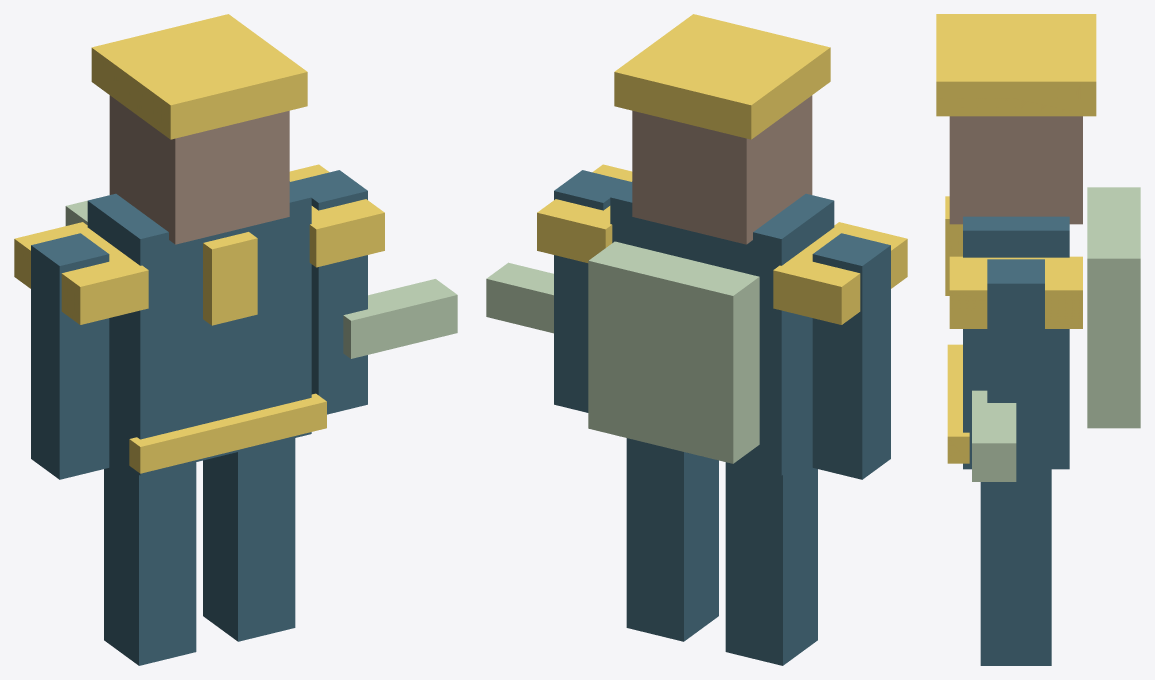
The model's file is 08_tamsin_ashvein_tamer_under_hammer.glb.
3 renders of one model, left to right at view 1: azimuth 30°, elevation 25°; view 2: azimuth 150°, elevation 25°; view 3: azimuth 270°, elevation 25°, orthographic.
Parts seen in each view (by area): view 1: Tamsin Ashvein, Tamer under Hammer; view 2: Tamsin Ashvein, Tamer under Hammer; view 3: Tamsin Ashvein, Tamer under Hammer.
Boxes of the visible parts, x1,y1,x2,y2 form: Tamsin Ashvein, Tamer under Hammer: [14, 14, 457, 665]; Tamsin Ashvein, Tamer under Hammer: [486, 14, 907, 665]; Tamsin Ashvein, Tamer under Hammer: [936, 14, 1140, 665].
Bounding box in the file's own units: 1.1 × 1.55 × 0.4935.
